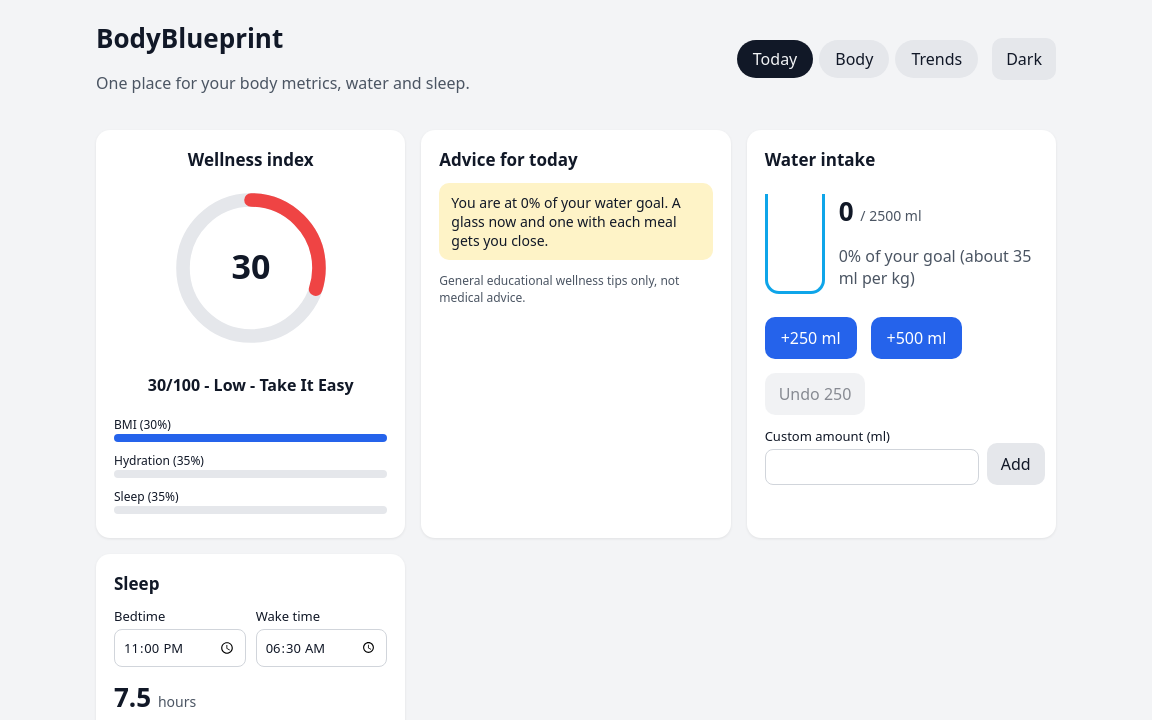
Test: Body tab › switches units without losing the value
Click the tab "Body": coordinates (854, 59) [819,40,889,78]
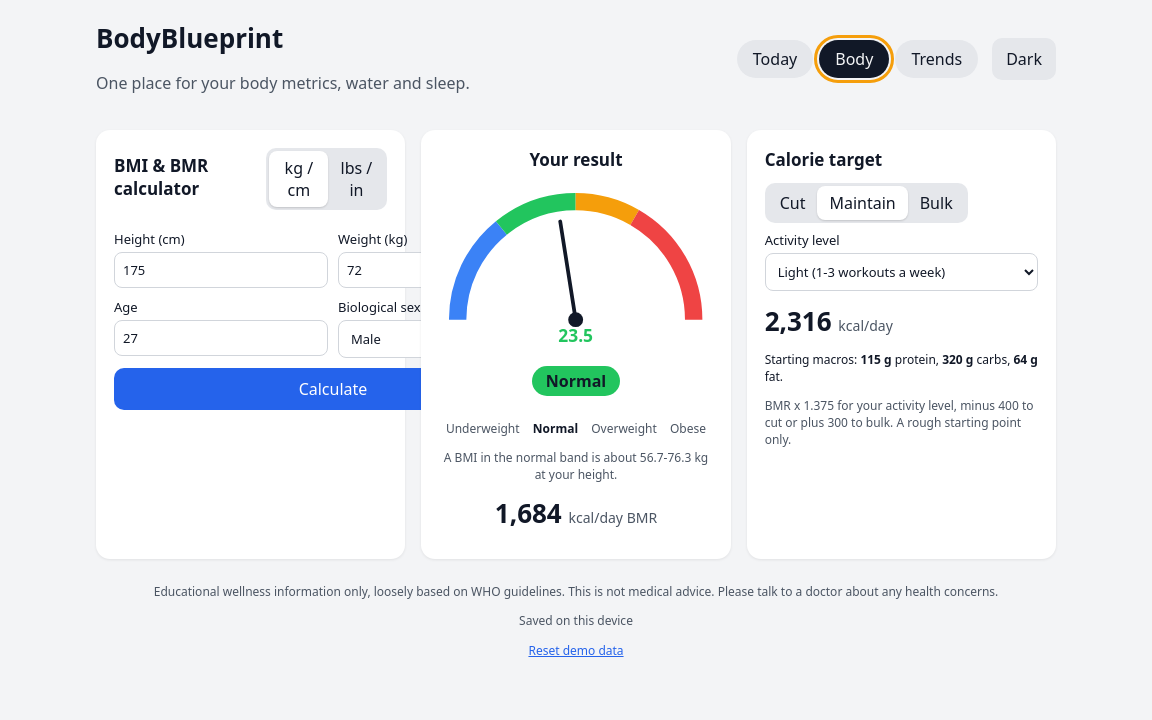
Click the button "lbs / in": coordinates (356, 179) [328,151,384,207]
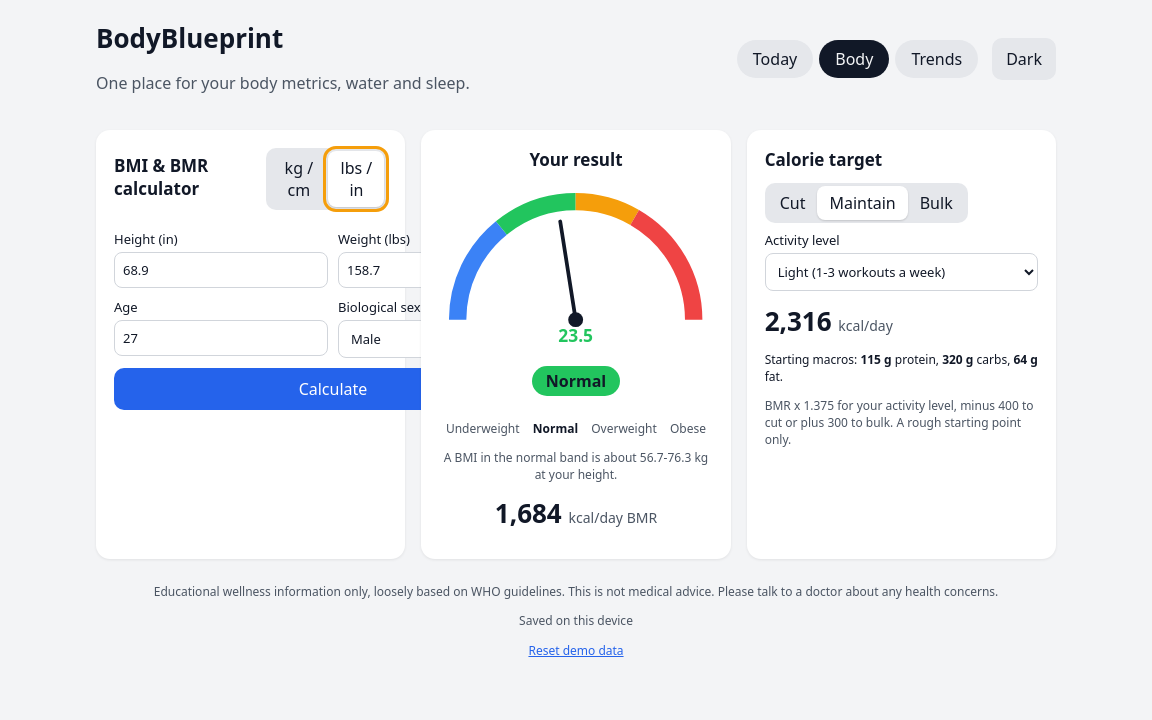
Expected: the number field labelled "Height (in)" holds "68.9", [114,252,328,288]
